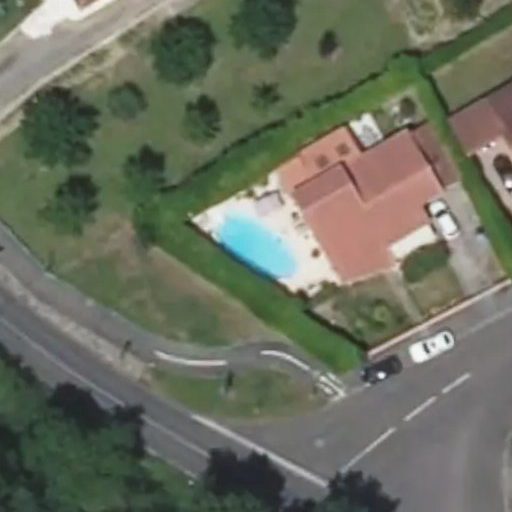pool: (209, 227, 312, 256)
